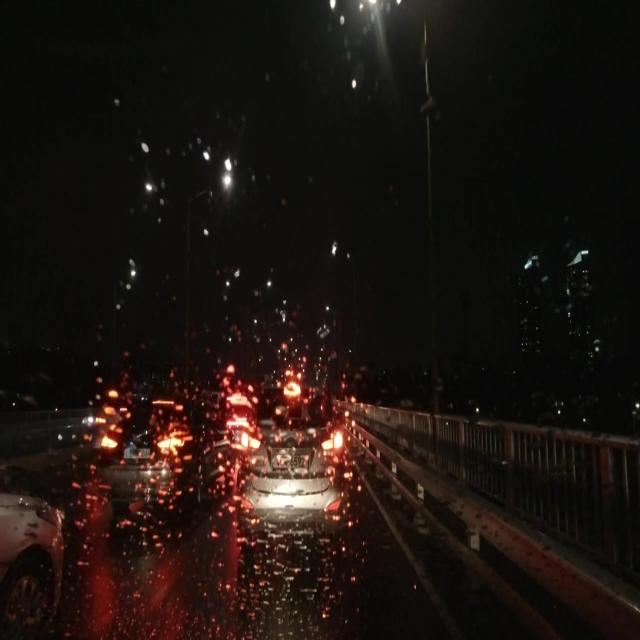Car: (233, 393, 346, 554), (99, 399, 232, 525), (3, 486, 60, 639)
